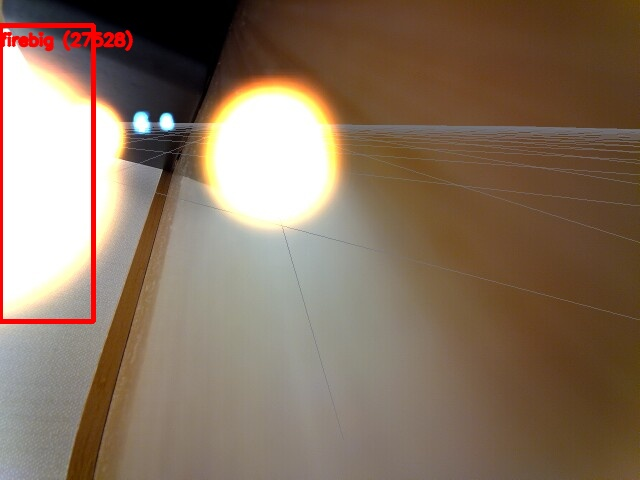firebig: (0, 25, 93, 321)
